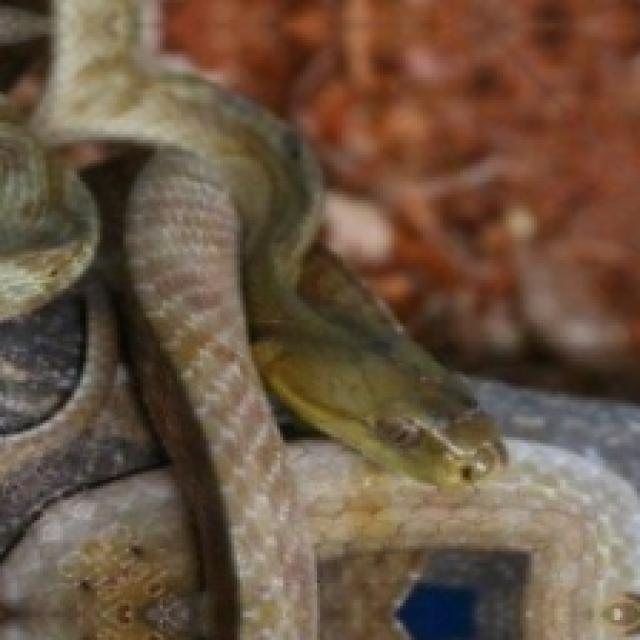philippine cat snake: (0, 0, 503, 637)
